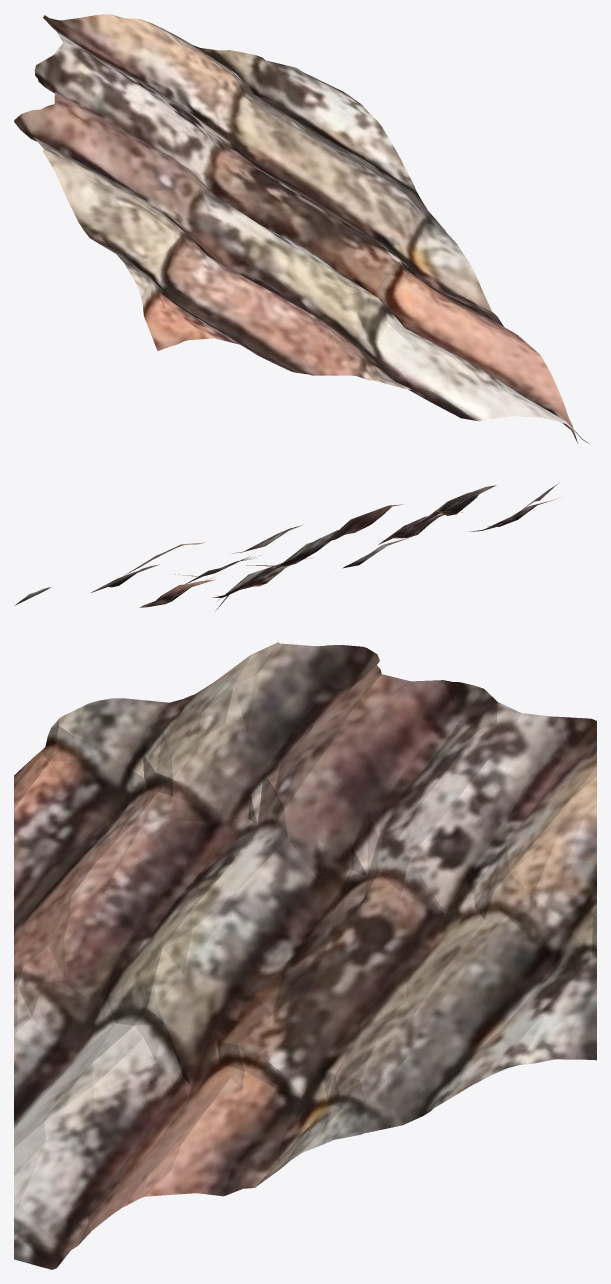
3 renders of one model, top to bottom at view 1: azimuth 30°, elevation 25°; view 2: azimuth 150°, elevation 25°; view 3: azimuth 270°, elevation 25°, orthographic. The views are drawn at different scales.
Bounding box in the file's own units: 0.8374 × 0.6046 × 0.8373.
3 materials, 3 textured.
